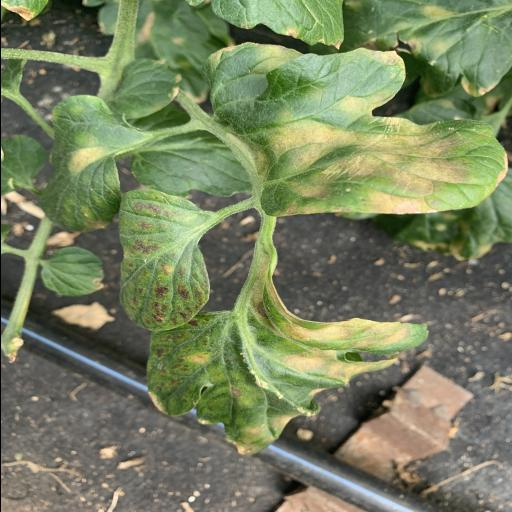Leaf Mold: (200, 44, 508, 216), (146, 310, 430, 454), (37, 94, 139, 232)
